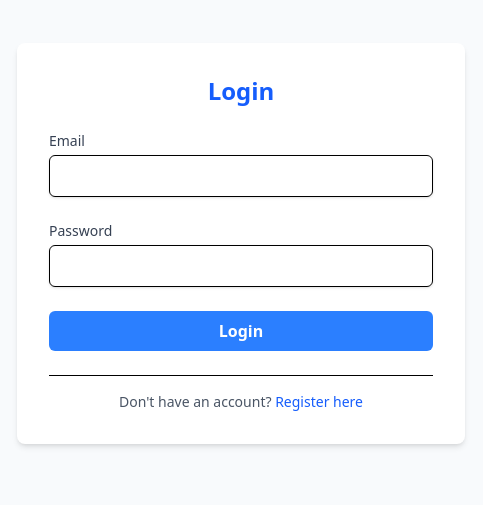
Test: LoginPage › displays an error message on failed login
Step 1. Type "wrong@example.com" into the field labelled "Email" → (241, 176), box left=49, top=154, right=433, bottom=196
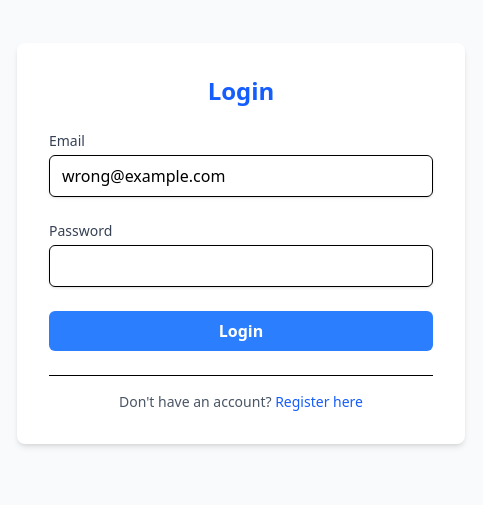
Step 2. Type "wrongpassword" into the password field labelled "Password" → (241, 266), box left=49, top=244, right=433, bottom=286
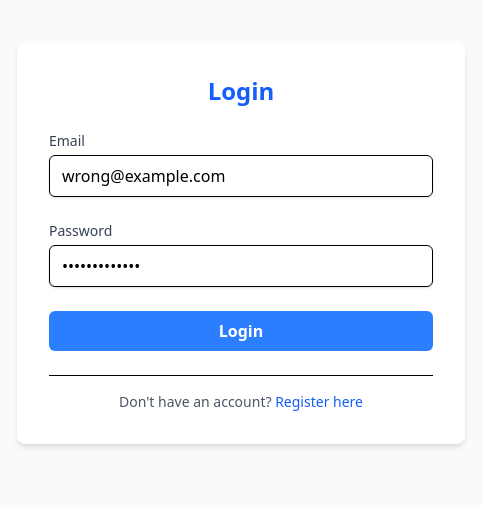
Step 3. Click the button "Login" → (241, 330), box left=49, top=310, right=433, bottom=350
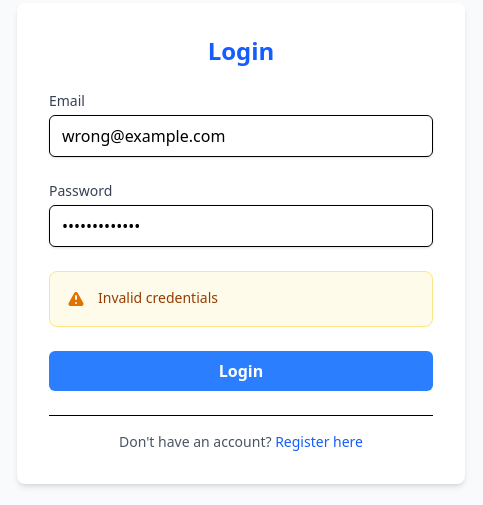
Result: the text "Invalid credentials" is shown at left=98, top=288, right=218, bottom=306
